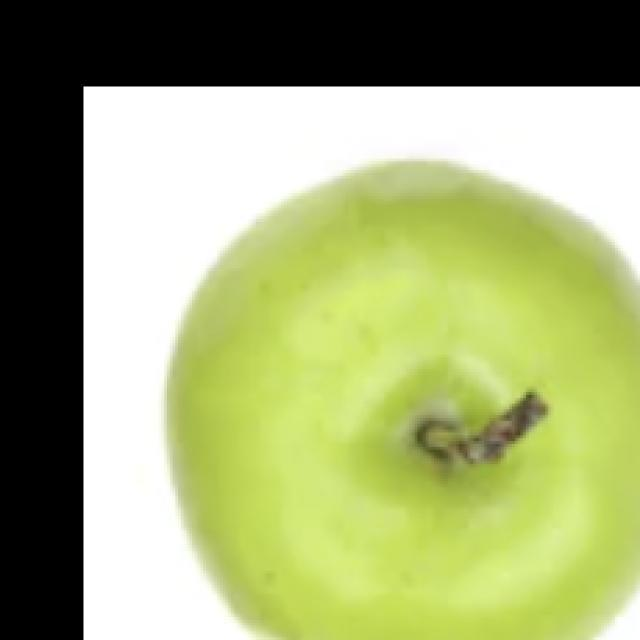Fresh Apple: (158, 160, 640, 640)
